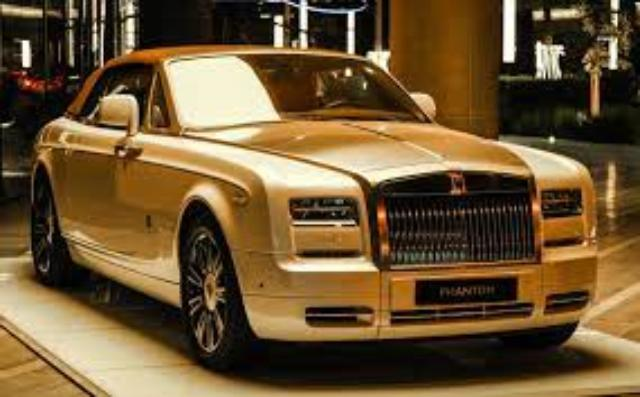rolls-royce: (30, 45, 598, 369)
